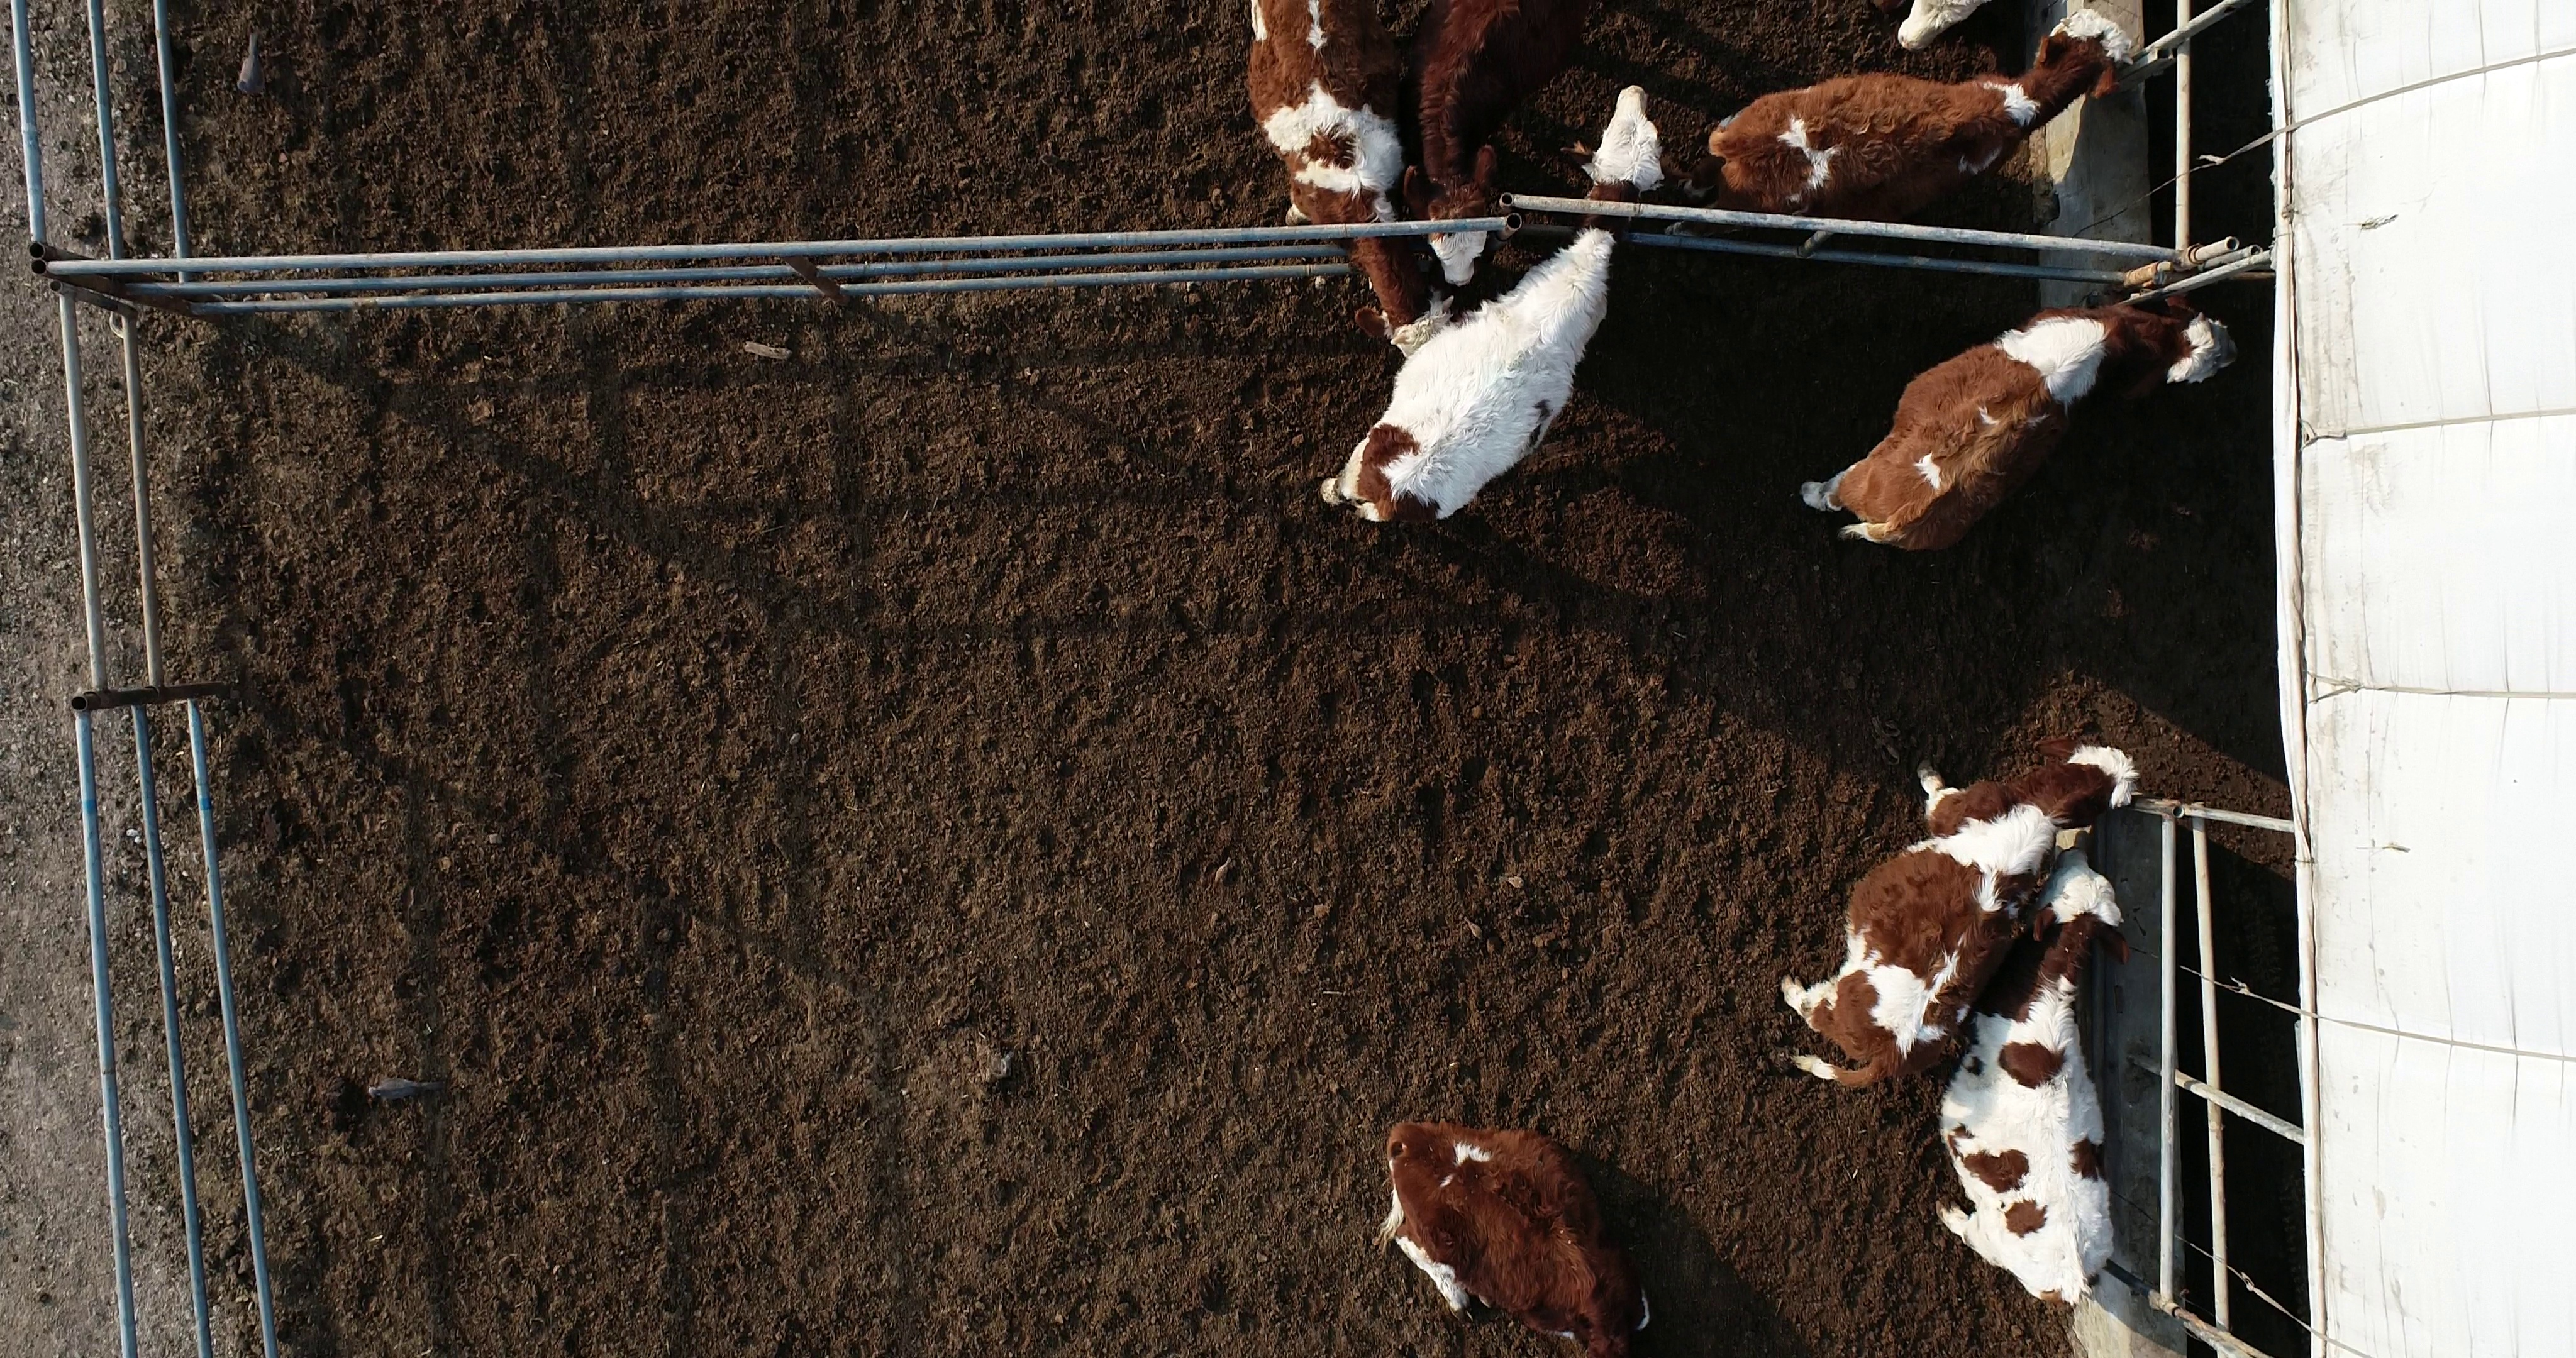cattle: (1308, 82, 1690, 537), (1774, 731, 2143, 1094), (1791, 286, 2245, 564), (1930, 845, 2133, 1314)
